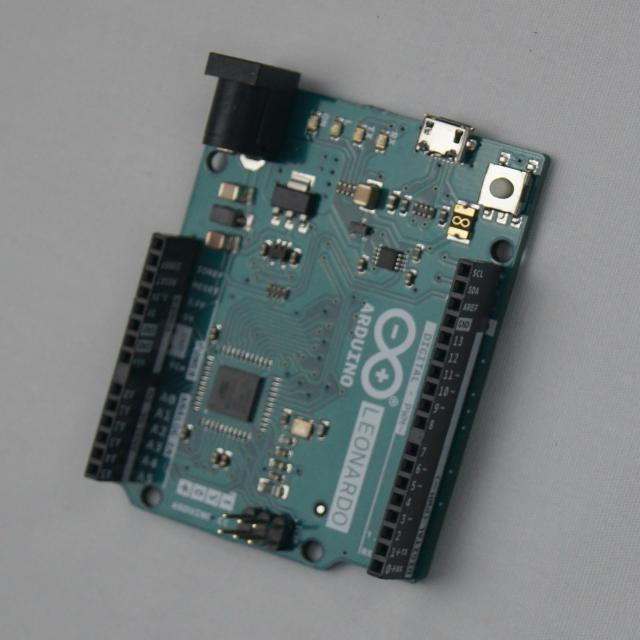Arduino-leonardo: (86, 54, 550, 581)
